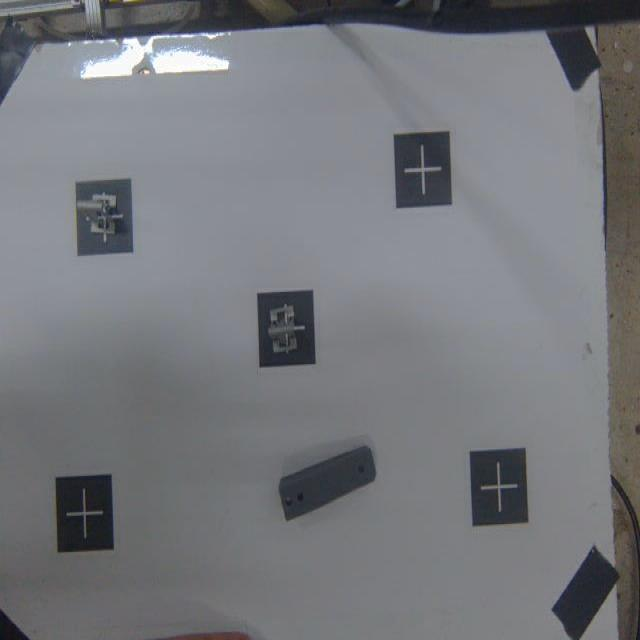pick1: (78, 180, 133, 256)
pick3: (258, 292, 314, 365)
